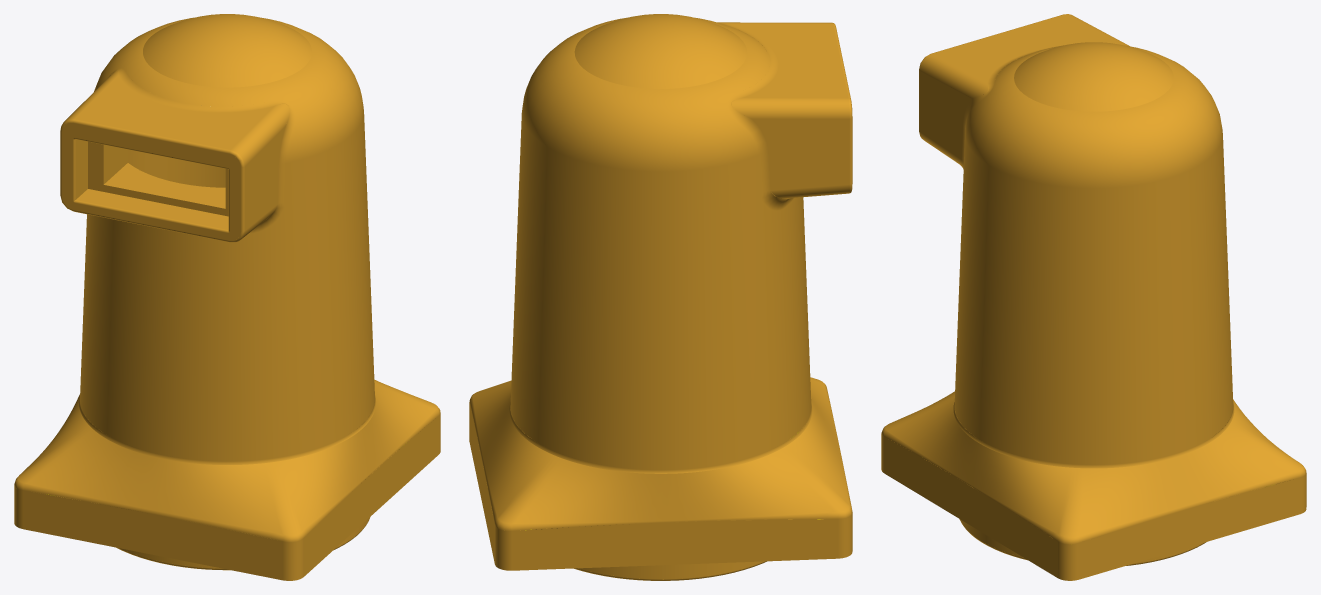
Rendered from 04.12_izolyator-prokhodnoy-uglovoy-ipu-20-225.glb.
3 renders of one model, left to right at view 1: azimuth 30°, elevation 25°; view 2: azimuth 150°, elevation 25°; view 3: azimuth 270°, elevation 25°, orthographic. The views are drawn at different scales.
Parts seen in each view (by area): view 1: 04.12_izolyator-prokhodnoy-uglovoy-ipu-20-225; view 2: 04.12_izolyator-prokhodnoy-uglovoy-ipu-20-225; view 3: 04.12_izolyator-prokhodnoy-uglovoy-ipu-20-225.
Boxes of the visible parts, bbox=[...] form: 04.12_izolyator-prokhodnoy-uglovoy-ipu-20-225: bbox=[14, 14, 440, 580]; 04.12_izolyator-prokhodnoy-uglovoy-ipu-20-225: bbox=[469, 14, 852, 580]; 04.12_izolyator-prokhodnoy-uglovoy-ipu-20-225: bbox=[881, 14, 1306, 580].
Size of the model in its own units: 293 by 340 by 287.
